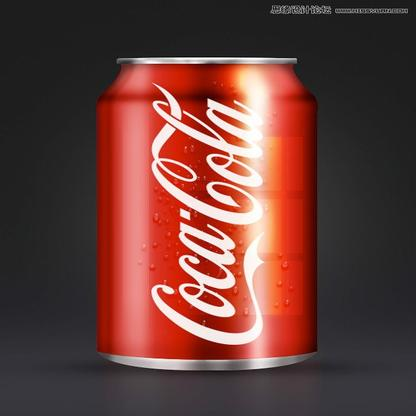can: (85, 44, 331, 371)
